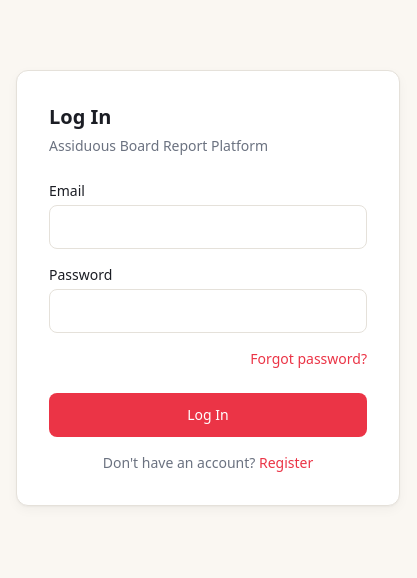
Test case: LoginView › clears the entered code and shows an error on an invalid TOTP attempt
Type "jane@example.com" into the field labelled "Email" at point(208, 227), box [49, 205, 367, 249]
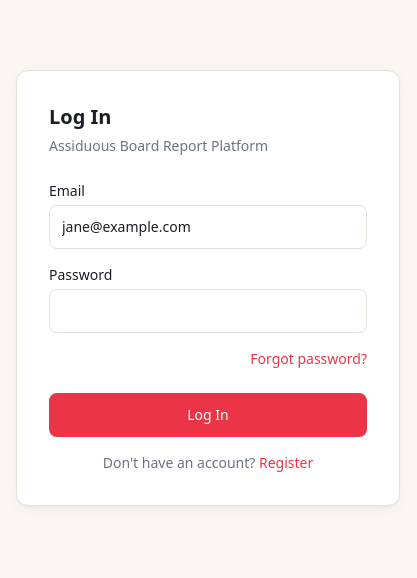
Type "password123" into the password field labelled "Password" at point(208, 311), box [49, 289, 367, 333]
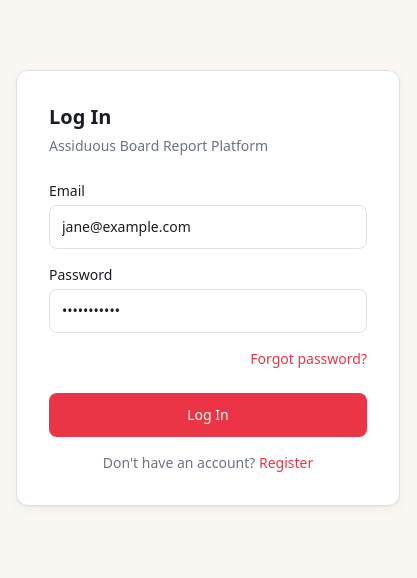
Click the button "Log In" at point(208, 415), box [49, 393, 367, 437]
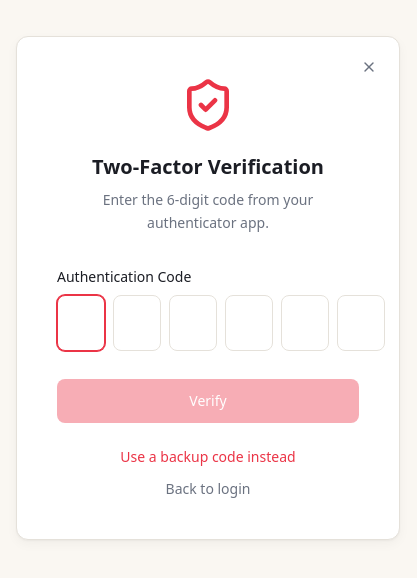
Expected: the heading "Two-Factor Verification" is shown, [92, 153, 324, 180]
Type "000000" into the field named "Digit 1 of 6" at point(81, 323), box [57, 295, 105, 351]
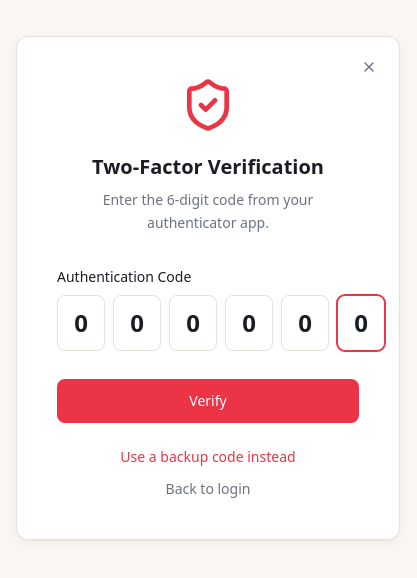
Click the button "Verify" at point(208, 401), box [57, 379, 359, 423]
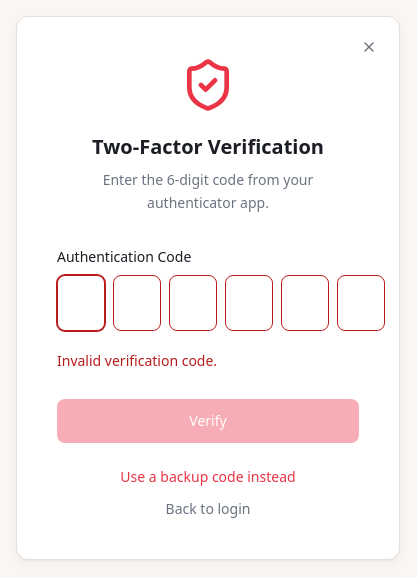
Expected: the text "Invalid verification code." is shown, [57, 351, 217, 370]
Expected: the field named "Digit 1 of 6" is empty, [57, 275, 105, 331]
